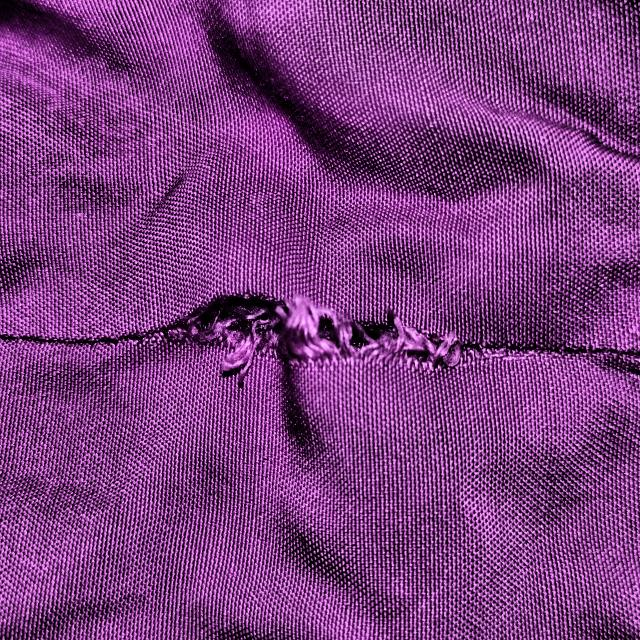seam: (138, 267, 491, 429)
